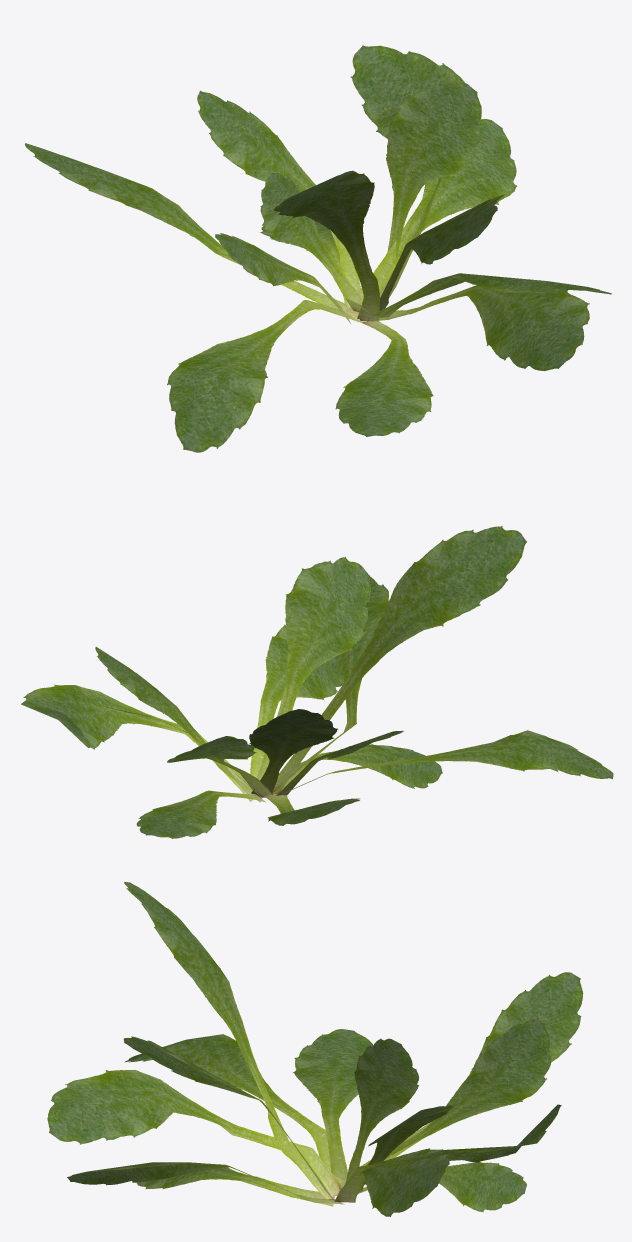
The model's file is daisyA_noFlower_u10cm_tri_decim025.obj.
The picture shows the model from 3 angles, top to bottom: view 1: azimuth 30°, elevation 25°; view 2: azimuth 150°, elevation 25°; view 3: azimuth 270°, elevation 25°; orthographic projection. The views are drawn at different scales.
Visible parts, largest first — view 1: daisyA; view 2: daisyA; view 3: daisyA.
Boxes of the visible parts, x1,y1,x2,y2 form: daisyA: (25,45,611,452); daisyA: (21,525,613,838); daisyA: (47,881,583,1216).
Bounding box in the file's own units: 0.9853 × 0.5579 × 1.05.
